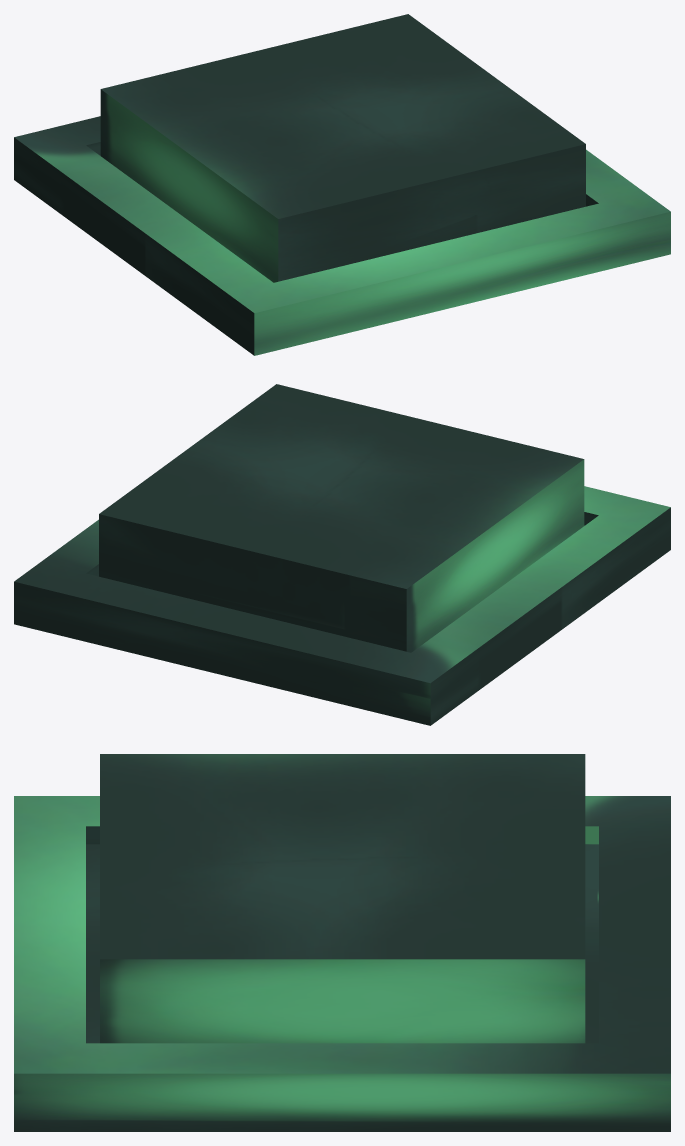
The model's file is F_Przycisk1.fbx.
3 views of the same model, one above another, from view 1: azimuth 30°, elevation 25°; view 2: azimuth 150°, elevation 25°; view 3: azimuth 270°, elevation 25° (orthographic). The views are drawn at different scales.
Parts seen in each view (by area): view 1: Cube.006, Cube.005; view 2: Cube.006, Cube.005; view 3: Cube.006, Cube.005.
Boxes of the visible parts, x1,y1,x2,y2 form: Cube.006: (100,14,585,282); Cube.005: (14,116,670,355); Cube.006: (99,384,584,652); Cube.005: (14,486,670,725); Cube.006: (100,754,585,1043); Cube.005: (14,796,670,1131).
Bounding box in the file's own units: 226 × 52.05 × 226.
